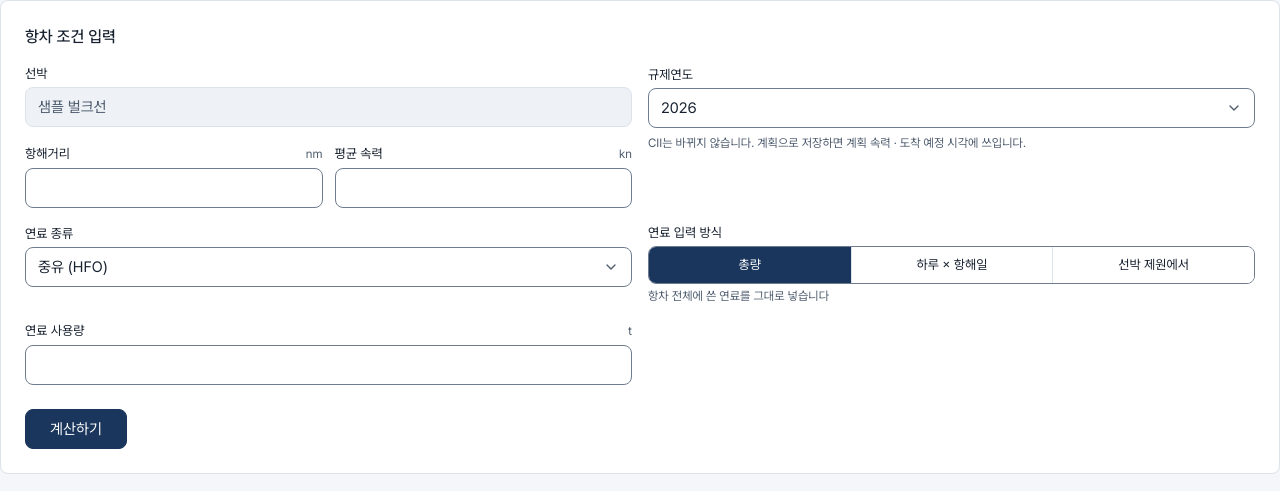
Test: 연료 입력 방식 (#1718) › 하루 × 항해일을 고르면 하루 칸이 서고 환산 총량이 보인다
The width and height of the screenshot is (1280, 491).
In the number field labelled "항해거리 nm": (174, 188) [25, 168, 322, 208], type "1000"
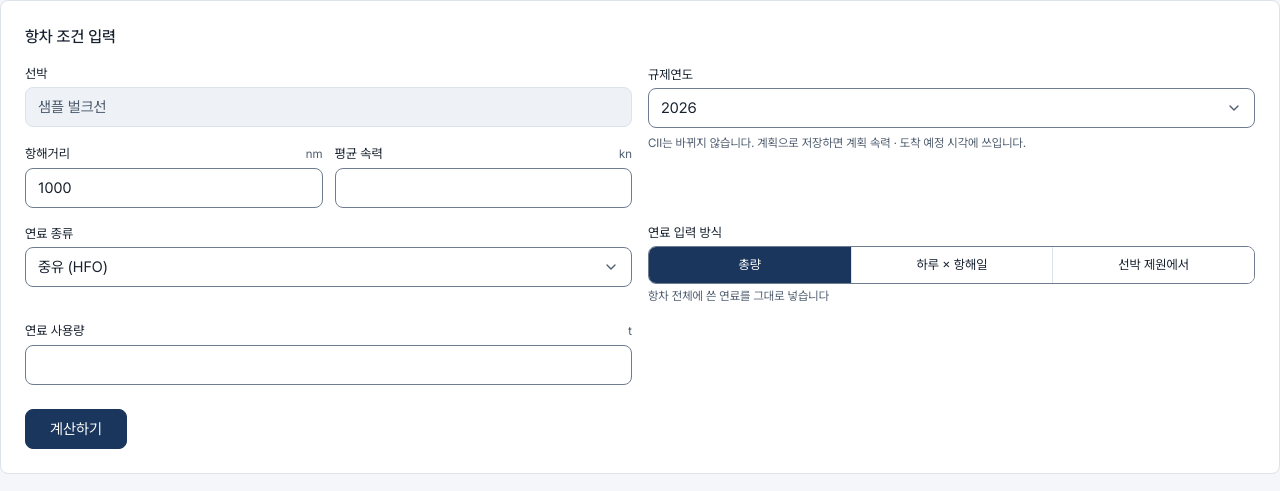
In the number field labelled "평균 속력 kn": (483, 188) [334, 168, 632, 208], type "12"
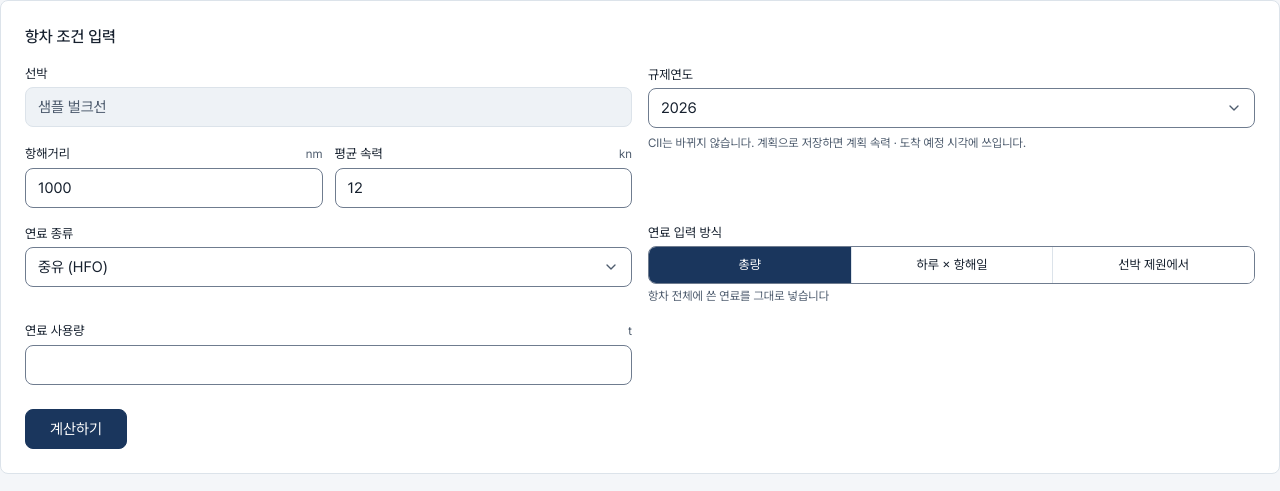
Click the radio button labelled "하루 × 항해일": click(952, 265) [851, 247, 1052, 283]
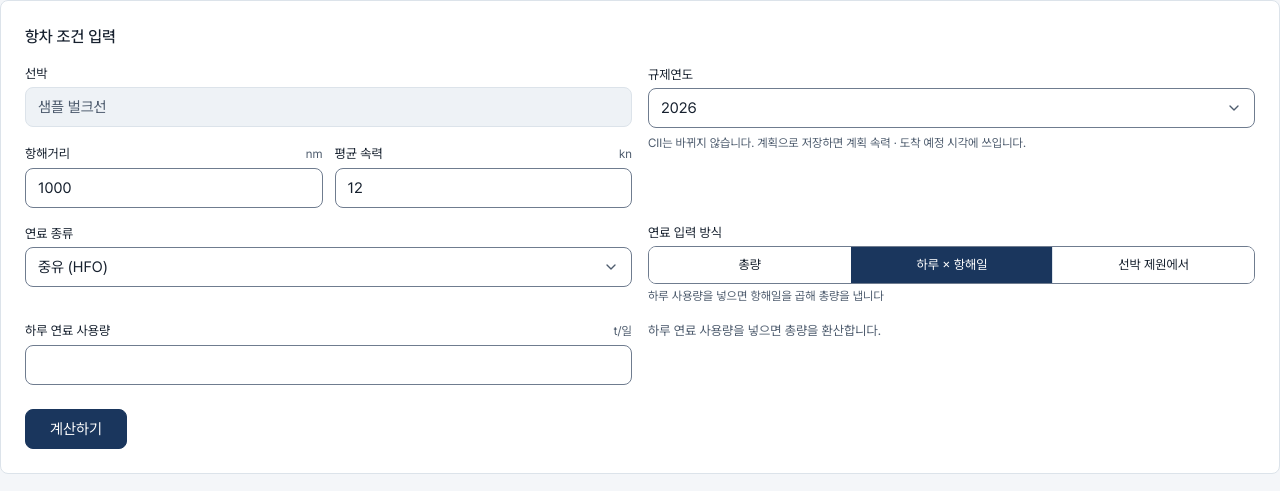
In the number field labelled "하루 연료 사용량 t/일": (328, 365) [25, 345, 632, 385], type "23.04"
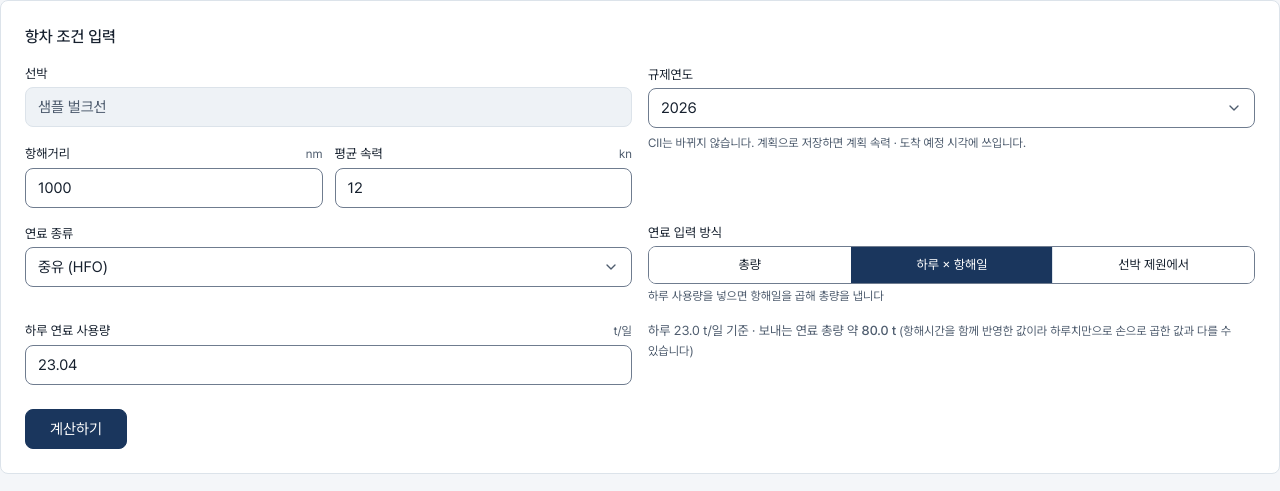
Expected: the text "23.0 t/일" is shown, [648, 323, 1231, 358]
Expected: the text "80.0 t" is shown, [862, 323, 896, 338]
